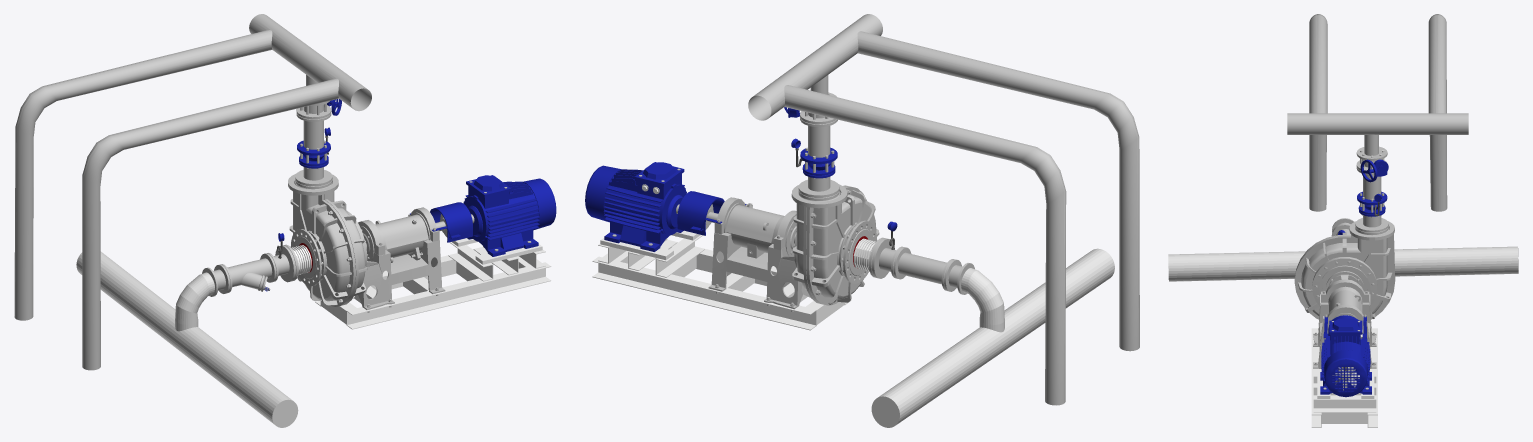
File: Pump_header.gltf
3 renders of one model, left to right at view 1: azimuth 30°, elevation 25°; view 2: azimuth 150°, elevation 25°; view 3: azimuth 270°, elevation 25°, orthographic. The views are drawn at different scales.
Parts seen in each view (by area): view 1: Cylinder.001, engine, intakeheader Pipe, Assembly, fuelSystem, vertical Pipe, horizontal Pipe, intakeHeader, alternator; view 2: Cylinder.001, engine, Assembly, intakeheader Pipe, fuelSystem, horizontal Pipe, vertical Pipe, intakeHeader, alternator; view 3: Cylinder.001, engine, intakeheader Pipe, fuelSystem, Assembly, vertical Pipe, roof pump.003.
Part boxes in pixels (bbox=[...]): Cylinder.001: bbox=[14, 14, 371, 370]; engine: bbox=[288, 173, 445, 312]; intakeheader Pipe: bbox=[76, 251, 298, 427]; Assembly: bbox=[315, 238, 551, 329]; fuelSystem: bbox=[463, 175, 556, 256]; vertical Pipe: bbox=[295, 101, 332, 189]; horizontal Pipe: bbox=[202, 244, 298, 296]; intakeHeader: bbox=[175, 272, 214, 331]; alternator: bbox=[410, 202, 472, 242]; Cylinder.001: bbox=[748, 14, 1139, 405]; engine: bbox=[708, 184, 879, 311]; Assembly: bbox=[592, 230, 851, 330]; intakeheader Pipe: bbox=[871, 248, 1114, 427]; fuelSystem: bbox=[585, 162, 686, 251]; horizontal Pipe: bbox=[869, 237, 974, 294]; vertical Pipe: bbox=[798, 92, 839, 200]; intakeHeader: bbox=[961, 268, 1004, 332]; alternator: bbox=[677, 191, 746, 235]; Cylinder.001: bbox=[1287, 14, 1468, 211]; engine: bbox=[1294, 221, 1395, 368]; intakeheader Pipe: bbox=[1168, 246, 1518, 281]; fuelSystem: bbox=[1320, 318, 1371, 397]; Assembly: bbox=[1311, 328, 1377, 427]; vertical Pipe: bbox=[1355, 146, 1388, 235]; roof pump.003: bbox=[1360, 159, 1388, 182].
Size of the model in its own units: 36.89 by 18.83 by 26.2.
8 materials, 1 textured.
